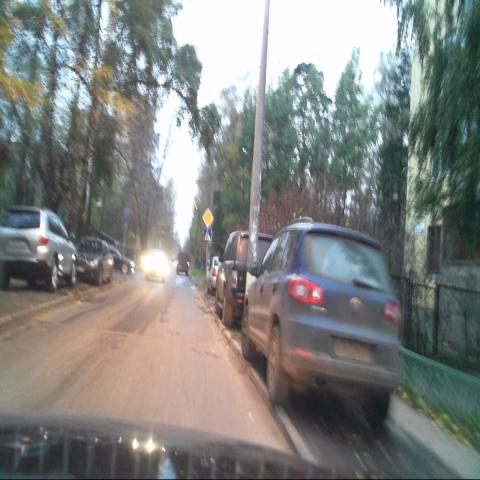2_1: (201, 208, 213, 227)
5_19_1: (203, 229, 211, 242)
